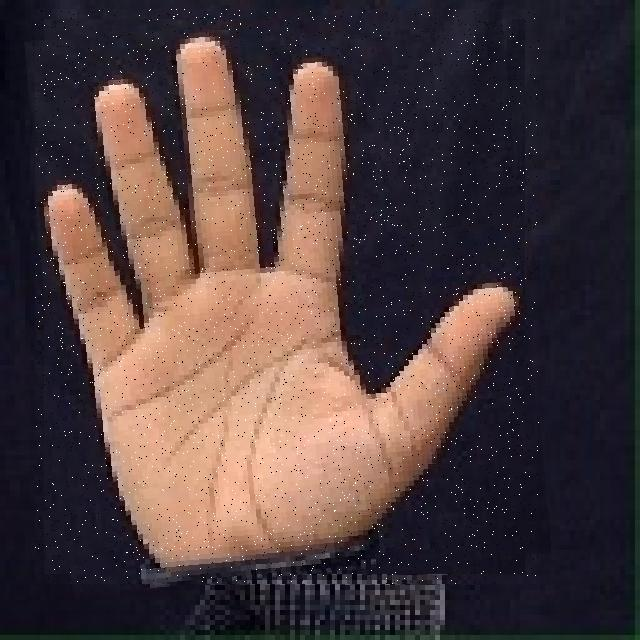Yes: (36, 9, 540, 584)
